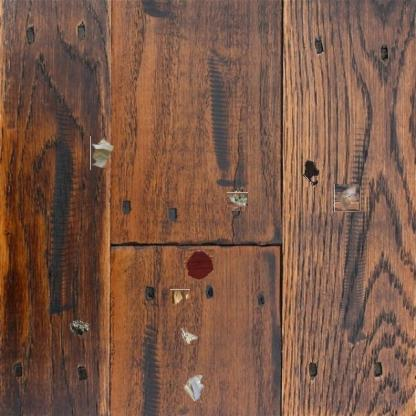dirty: (90, 136, 115, 170), (182, 373, 206, 403), (334, 185, 360, 212), (67, 319, 91, 337), (178, 325, 198, 345), (170, 289, 191, 306), (228, 191, 247, 209)
liquid: (184, 249, 214, 280), (302, 159, 320, 187)
